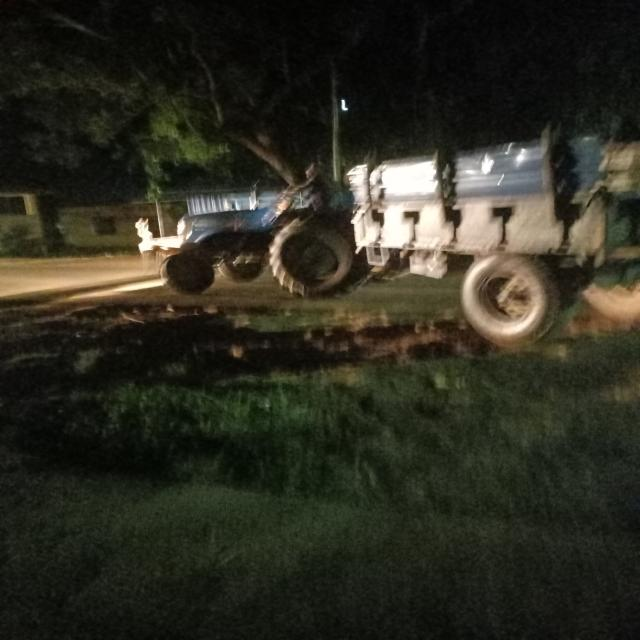tractor: (129, 120, 634, 349)
